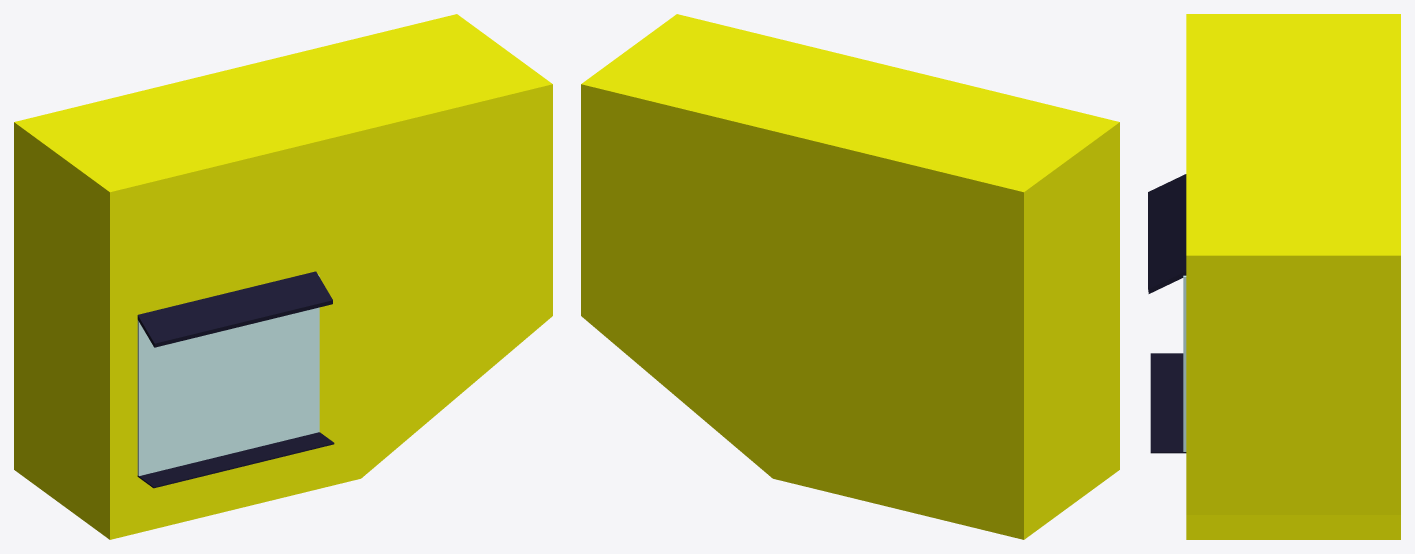
3 renders of one model, left to right at view 1: azimuth 30°, elevation 25°; view 2: azimuth 150°, elevation 25°; view 3: azimuth 270°, elevation 25°, orthographic. The views are drawn at different scales.
Visible parts, largest first — view 1: Mesh_0.014; view 2: Mesh_0.014; view 3: Mesh_0.014.
Boxes of the visible parts, box(x1,y1,x2,y2) form: Mesh_0.014: box(14, 14, 552, 539); Mesh_0.014: box(581, 14, 1119, 539); Mesh_0.014: box(1148, 14, 1400, 539).
Size of the model in its own units: 4 by 3 by 1.77.
